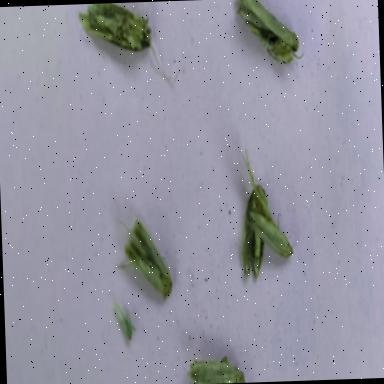pbw: (77, 1, 179, 86), (240, 143, 292, 260), (112, 214, 172, 300), (234, 0, 304, 64), (239, 182, 269, 279), (185, 352, 244, 384)
